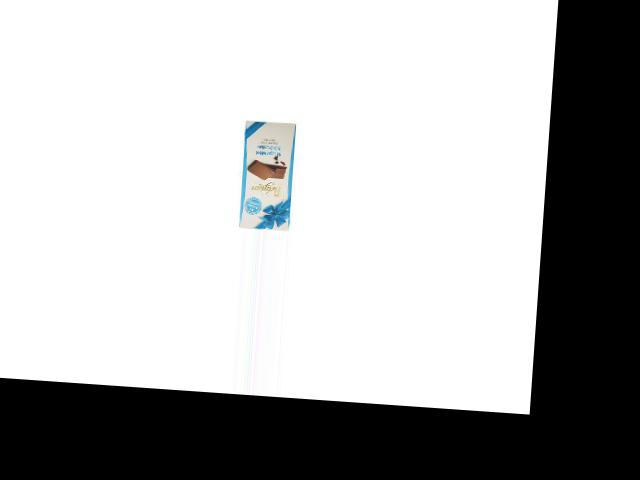chocolate: (234, 117, 303, 232)
